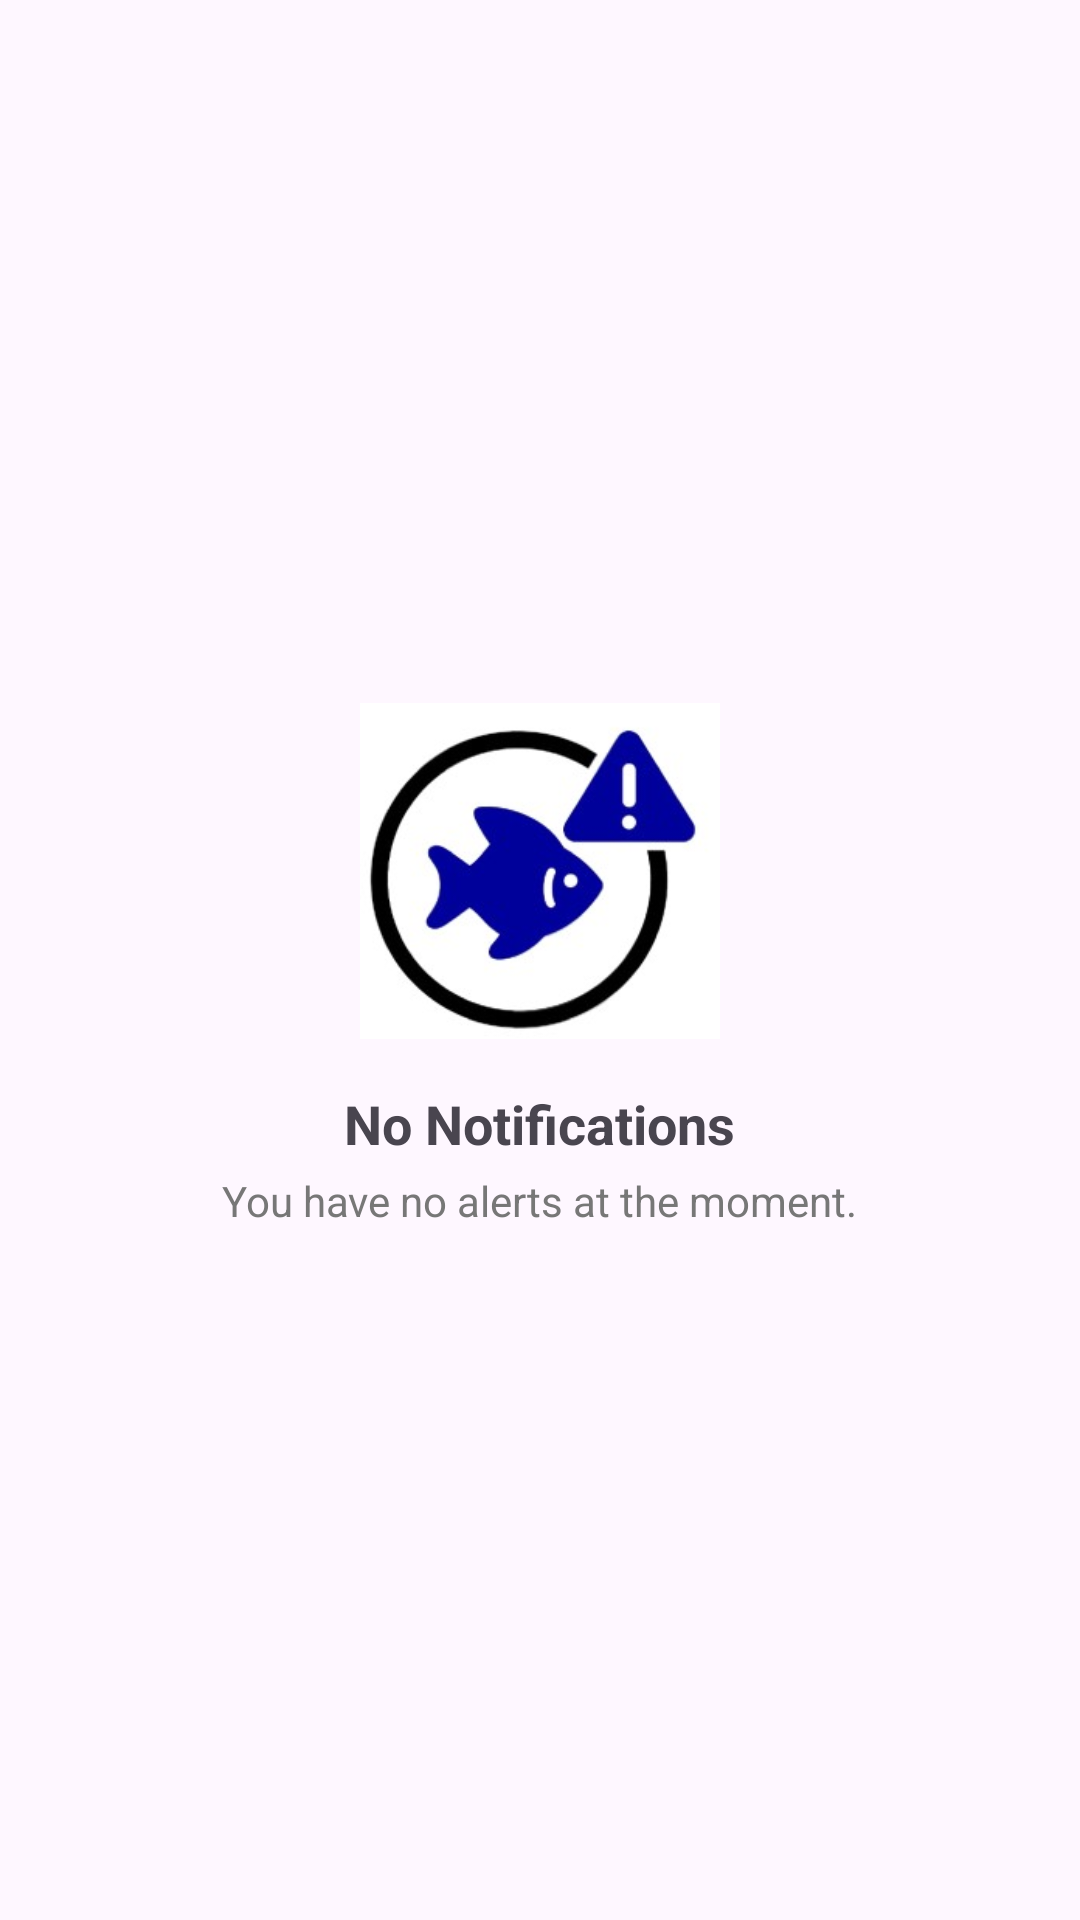

Icon bounding boxes for this 1080 x 1920 phone screenshot, format (x1, y1, x2, y2):
emptydata: (370, 730, 696, 1029)
